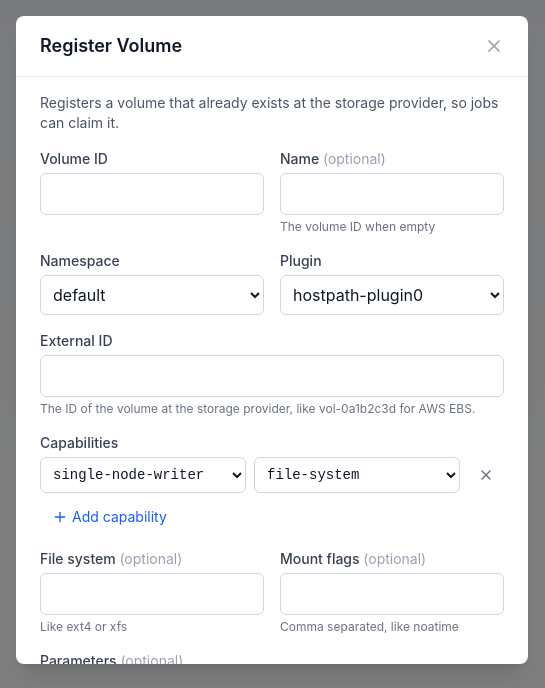
RegisterVolumeModal › shows the error of Nomad and keeps the form
This screenshot has width=545, height=688.
In the field labelled "Volume ID": (152, 194) [40,173,264,215], type "postgres-data"
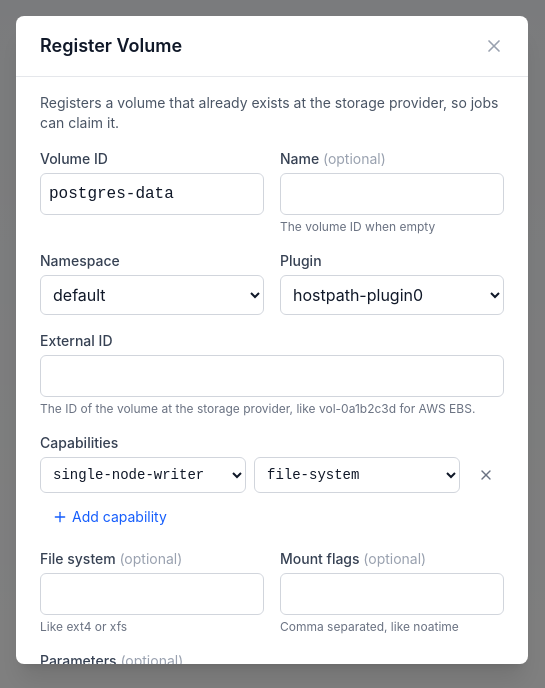
In the field labelled "External ID": (272, 376) [40,355,504,397], type "vol-0abc123"
(page scrolled)
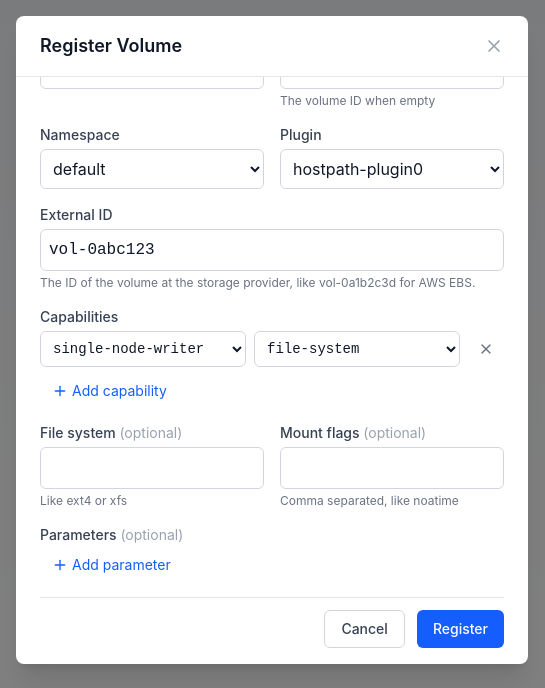
Click the button "Register": click(460, 629) [417,610,504,648]
(page scrolled)
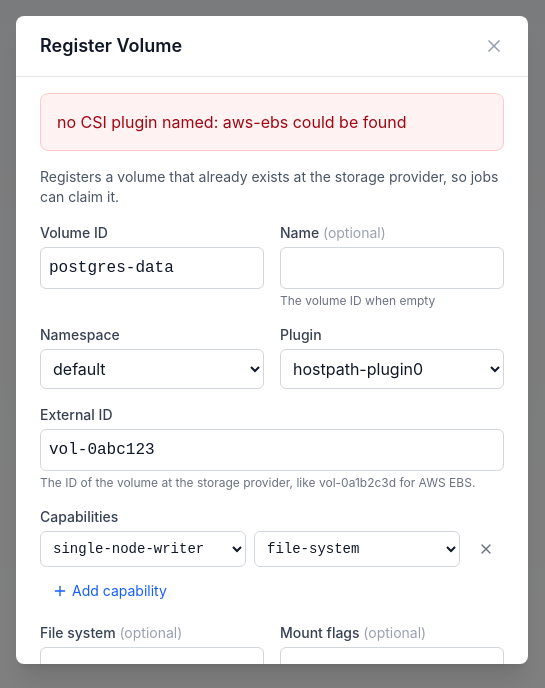
Expected: the text "no CSI plugin named: aws-ebs could be found" is shown, [57,112,406,132]
